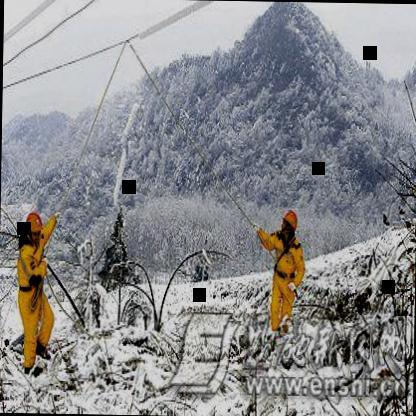helmet: (23, 205, 45, 249), (278, 209, 300, 242)
